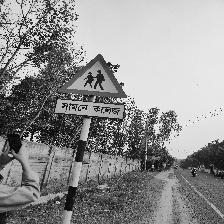College-in-front: (50, 44, 125, 126)
